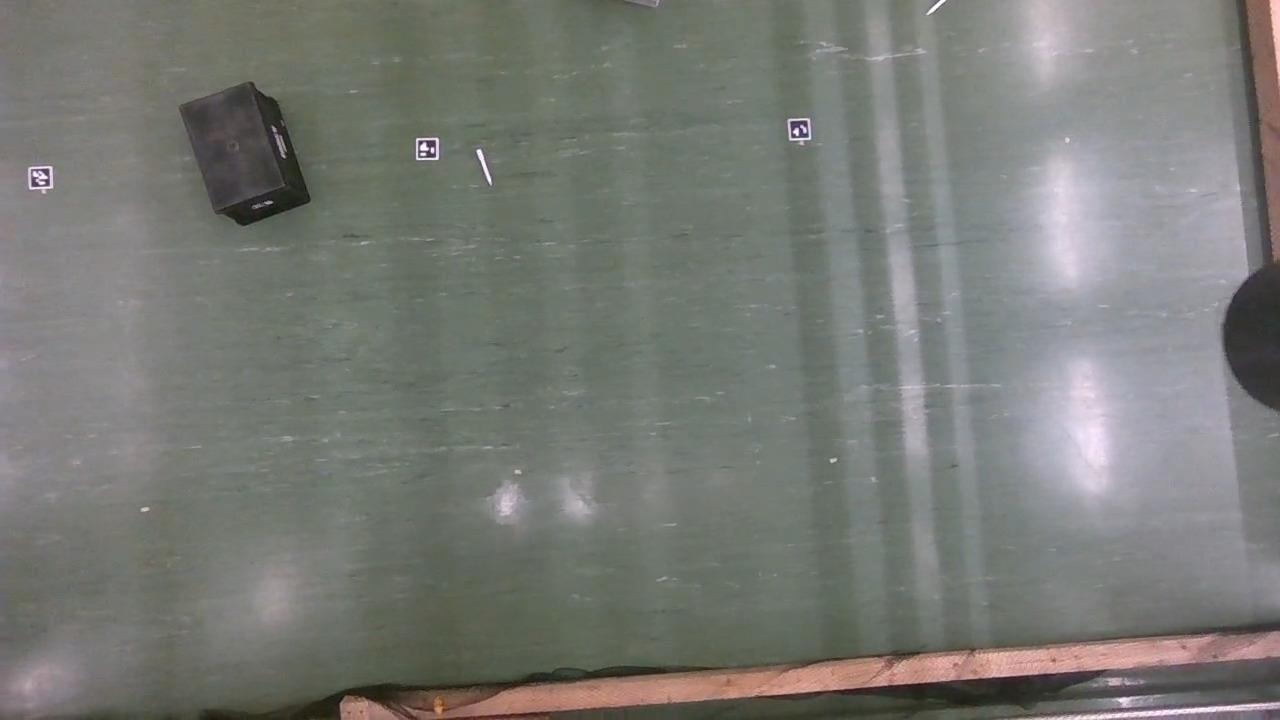rako: (180, 84, 310, 228)
